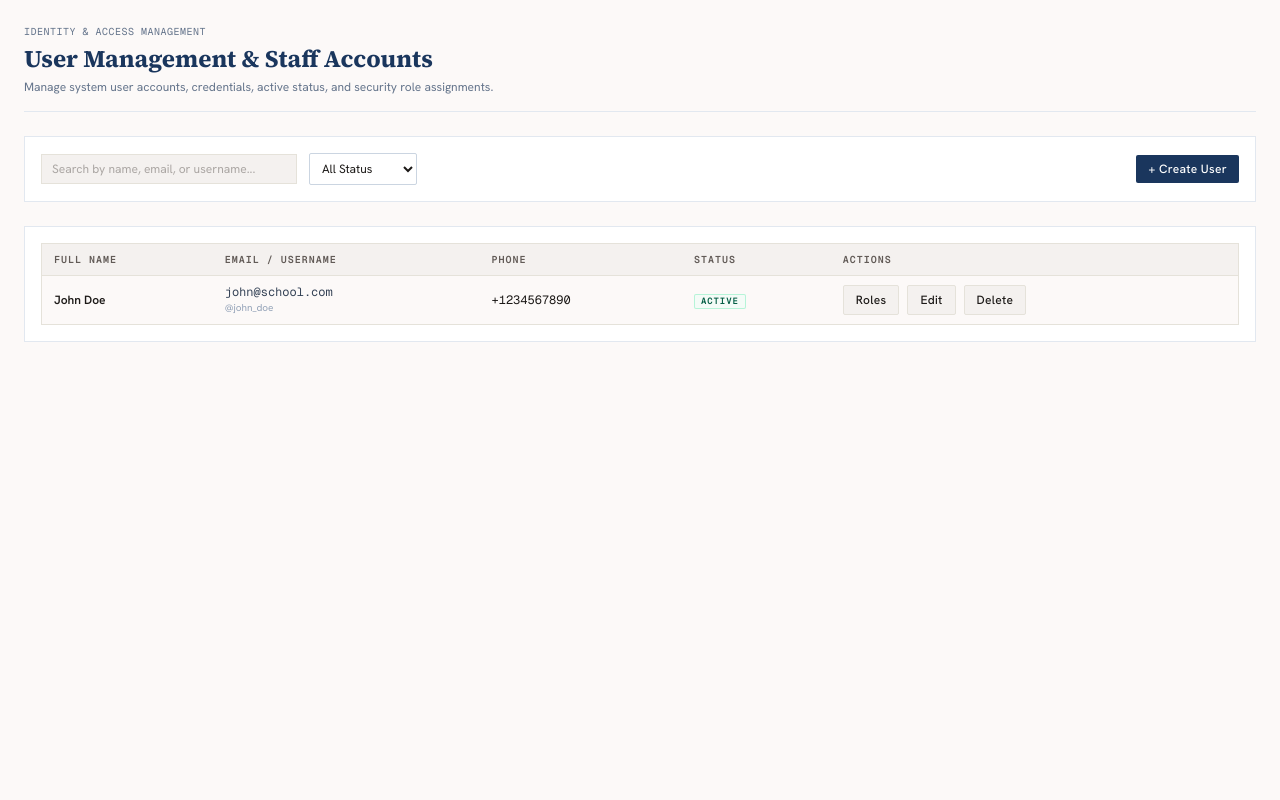
Scenario: UsersPage Component › opens Roles modal and assigns a role
Expected: the text "Roles" is shown, [856,292,886,308]
Click the button "Roles" at [871, 300], box [843,285,900,315]
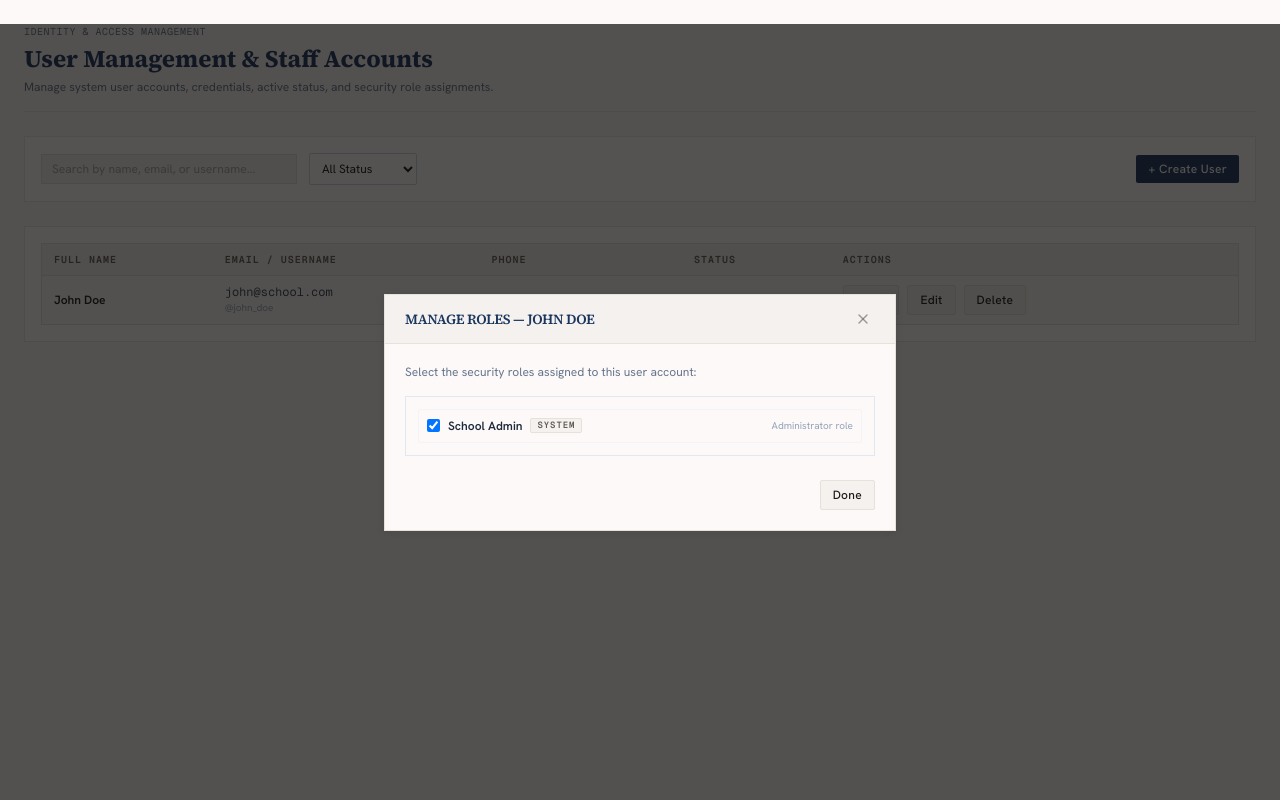
Now the text "School Admin" is shown, box [448,418,522,434]
